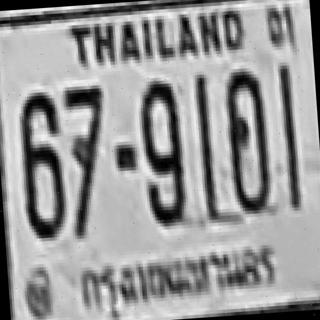N00: (221, 65, 270, 214)
N01: (276, 62, 300, 208), (193, 72, 217, 215)
N06: (15, 88, 66, 236)
N07: (62, 83, 111, 234), (62, 83, 108, 196), (62, 82, 107, 178)
N09: (136, 76, 185, 224)
